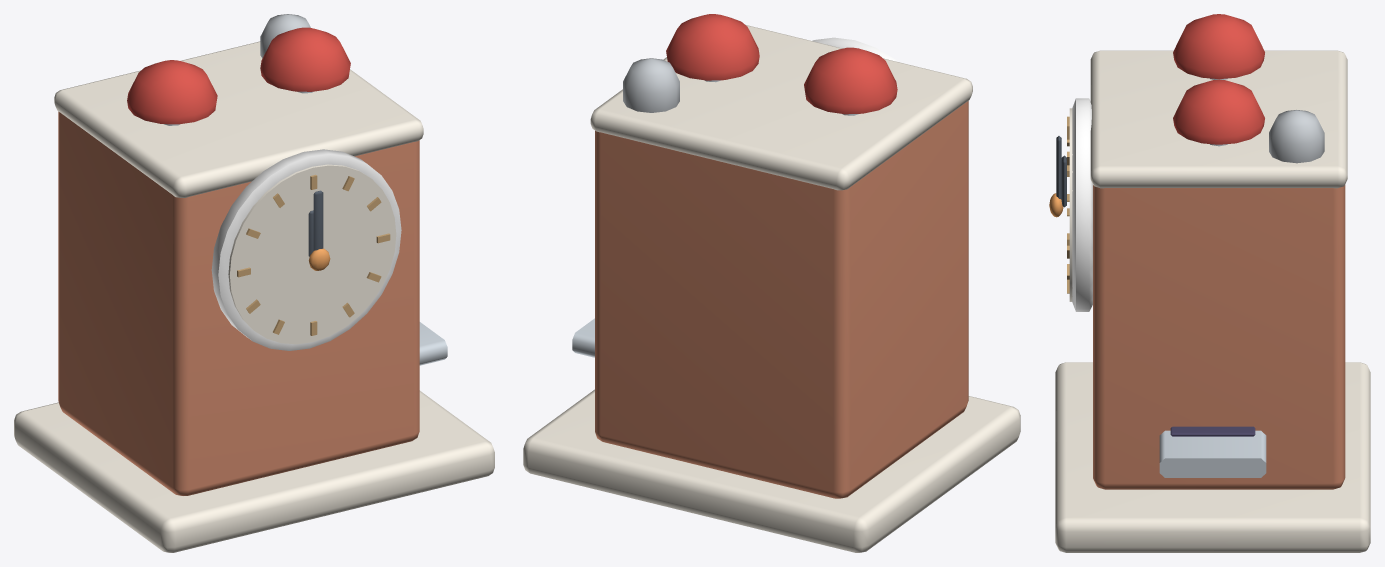
File: machine_clock.glb
The picture shows the model from 3 angles, left to right: view 1: azimuth 30°, elevation 25°; view 2: azimuth 150°, elevation 25°; view 3: azimuth 270°, elevation 25°; orthographic projection. The views are drawn at different scales.
Parts seen in each view (by area): view 1: machine_clock_structure, lamp, hand_minute; view 2: machine_clock_structure, lamp; view 3: machine_clock_structure, lamp.
Part boxes in pixels (x1,y1,x2,y2): machine_clock_structure: (14,27,494,552); lamp: (260,14,310,58); hand_minute: (313,190,323,250); machine_clock_structure: (523,14,1020,552); lamp: (623,58,679,112); machine_clock_structure: (1049,14,1370,552); lamp: (1269,110,1324,163).
Size of the model in its own units: 3.2 by 3.8 by 2.65.
